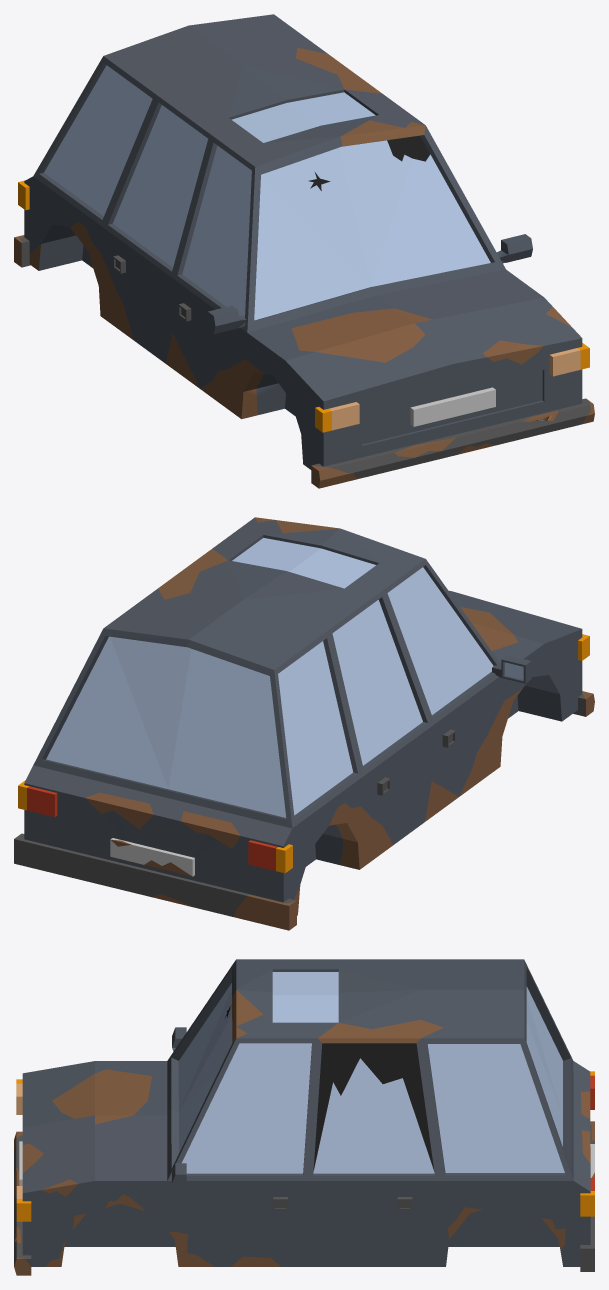
File: OldCar_05.glb
3 renders of one model, top to bottom at view 1: azimuth 30°, elevation 25°; view 2: azimuth 150°, elevation 25°; view 3: azimuth 270°, elevation 25°, orthographic. The views are drawn at different scales.
Parts seen in each view (by area): view 1: OldCar_05; view 2: OldCar_05; view 3: OldCar_05.
Boxes of the visible parts, x1=… form: OldCar_05: x1=14, y1=14, x2=594, y2=488; OldCar_05: x1=14, y1=517, x2=594, y2=930; OldCar_05: x1=14, y1=959, x2=594, y2=1275.
Bounding box in the file's own units: 1.98 × 1.39 × 3.3.
1 material, 1 textured.
